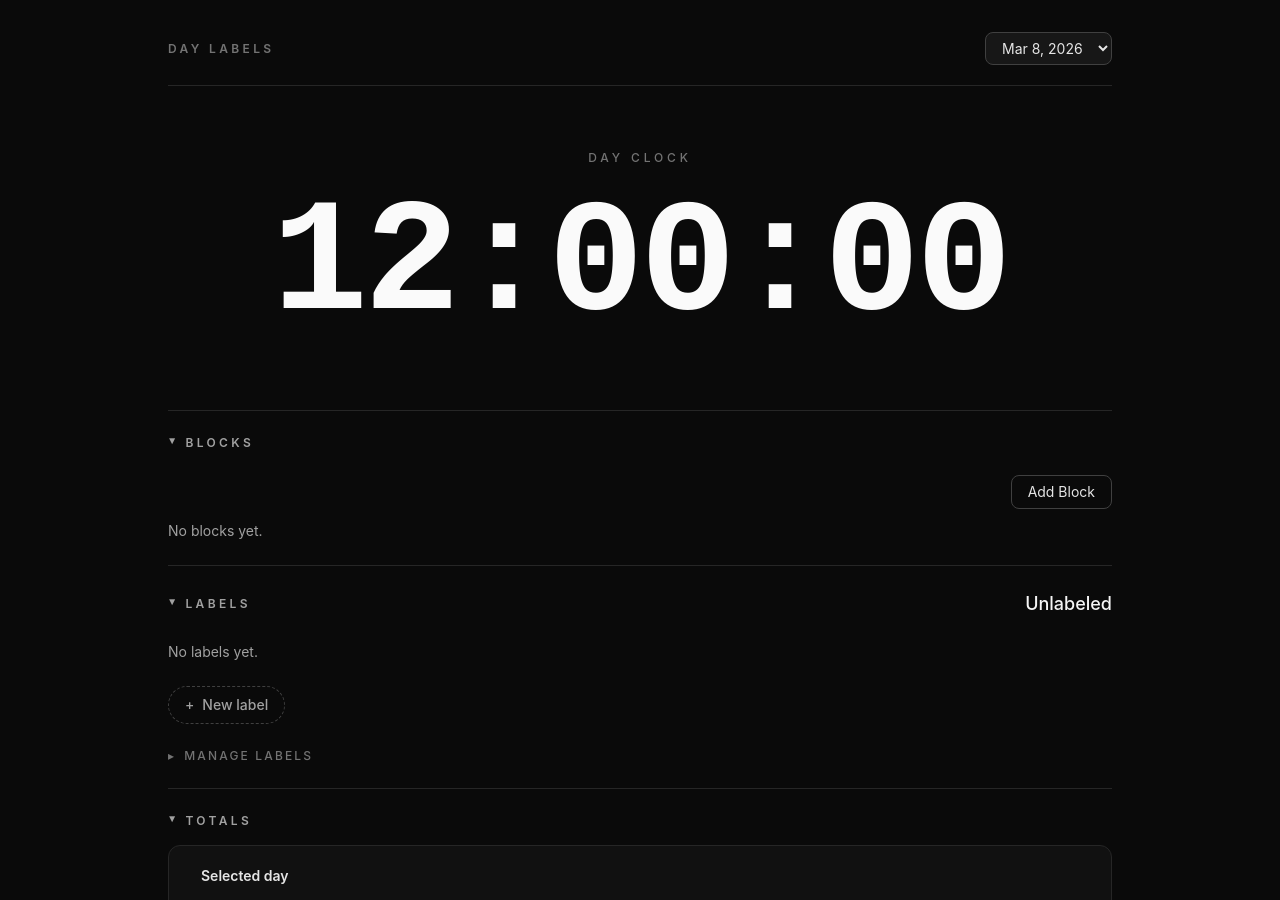
Test case: Labels › trims label names before creating them
Click the button "+ New label" at (227, 705), box [168,686,285,724]
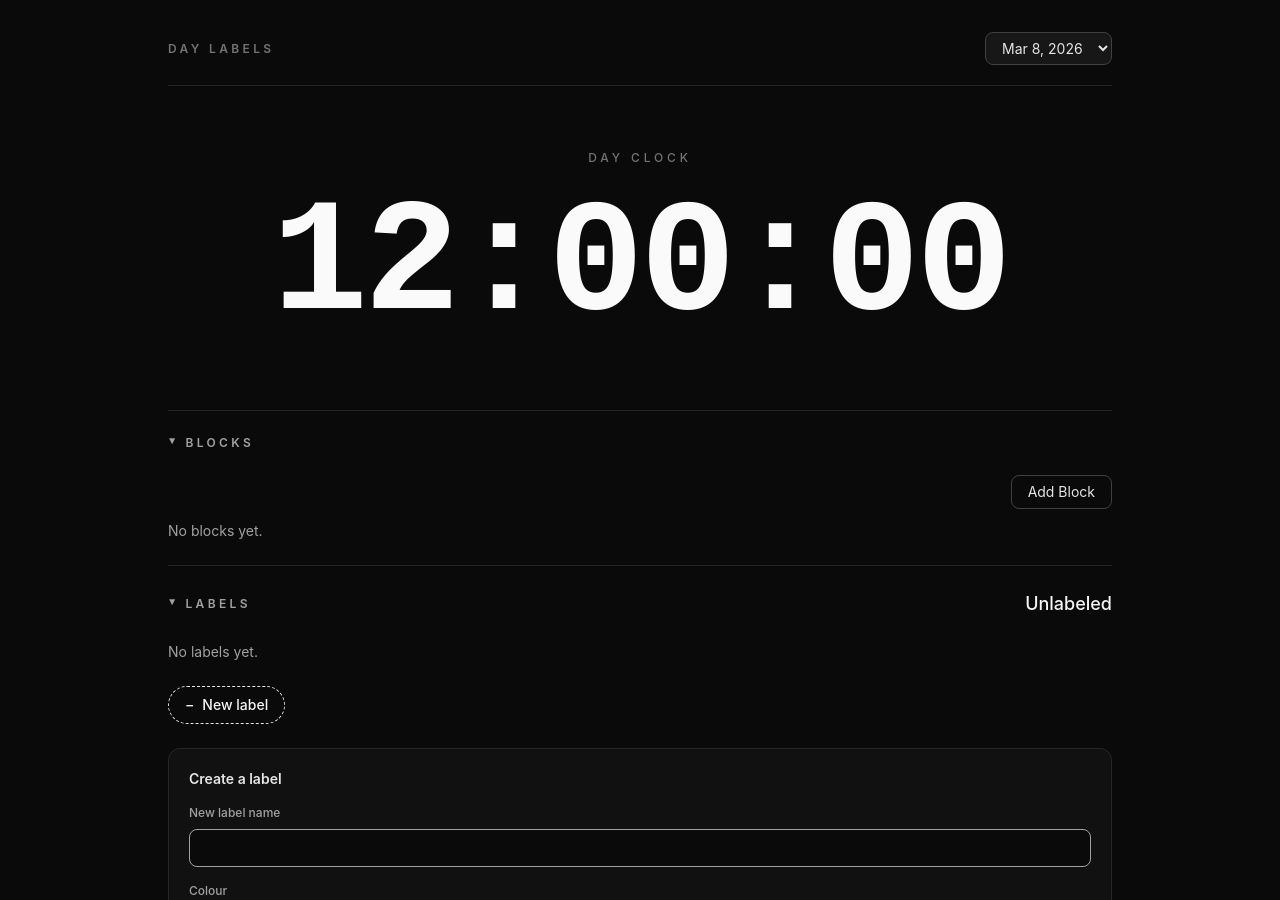
Type "  Deep work  " into the field labelled "New label name" at (640, 848), box [189,829,1091,867]
(page scrolled)
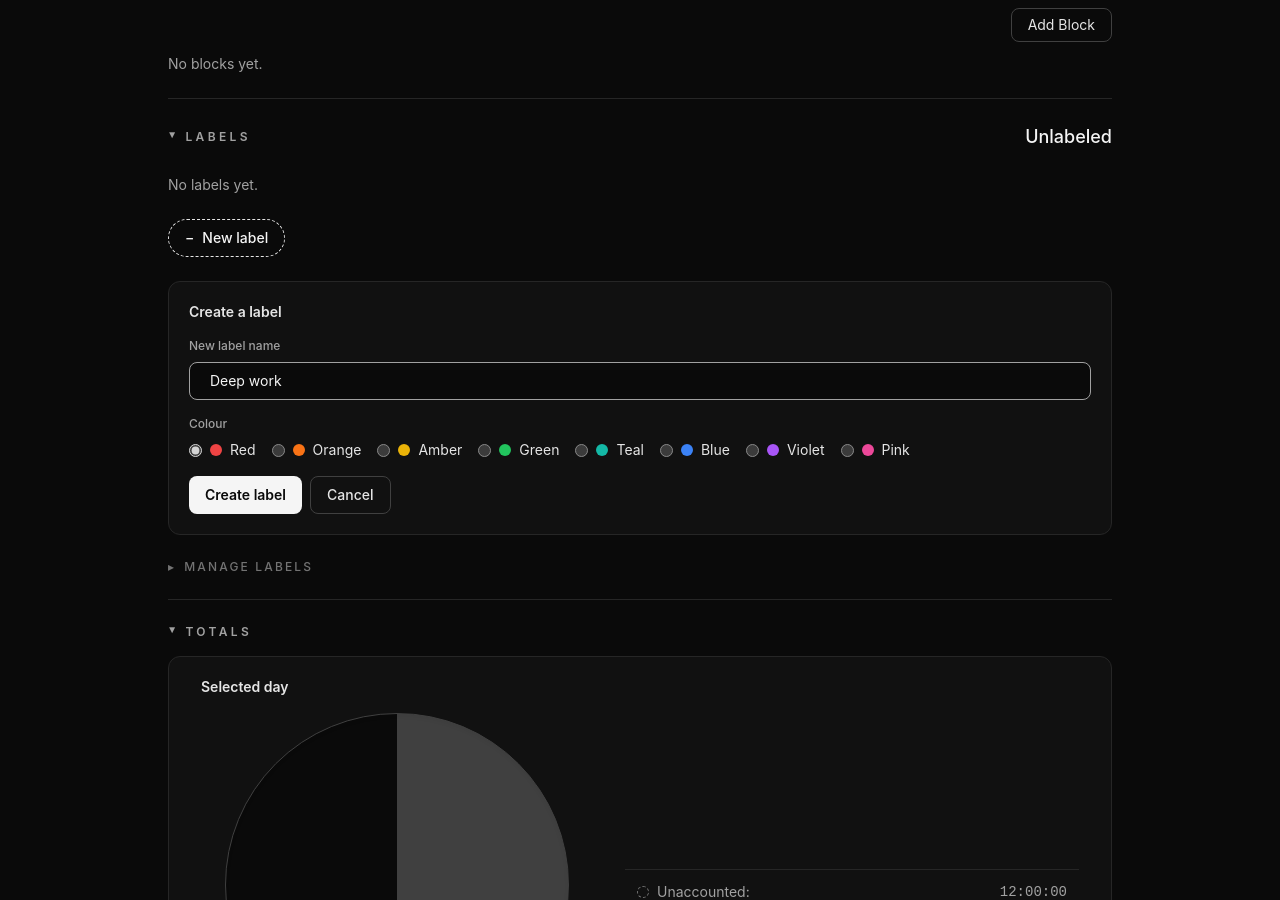
Click the radio button labelled "Blue" at (666, 450), box [660,444,673,456]
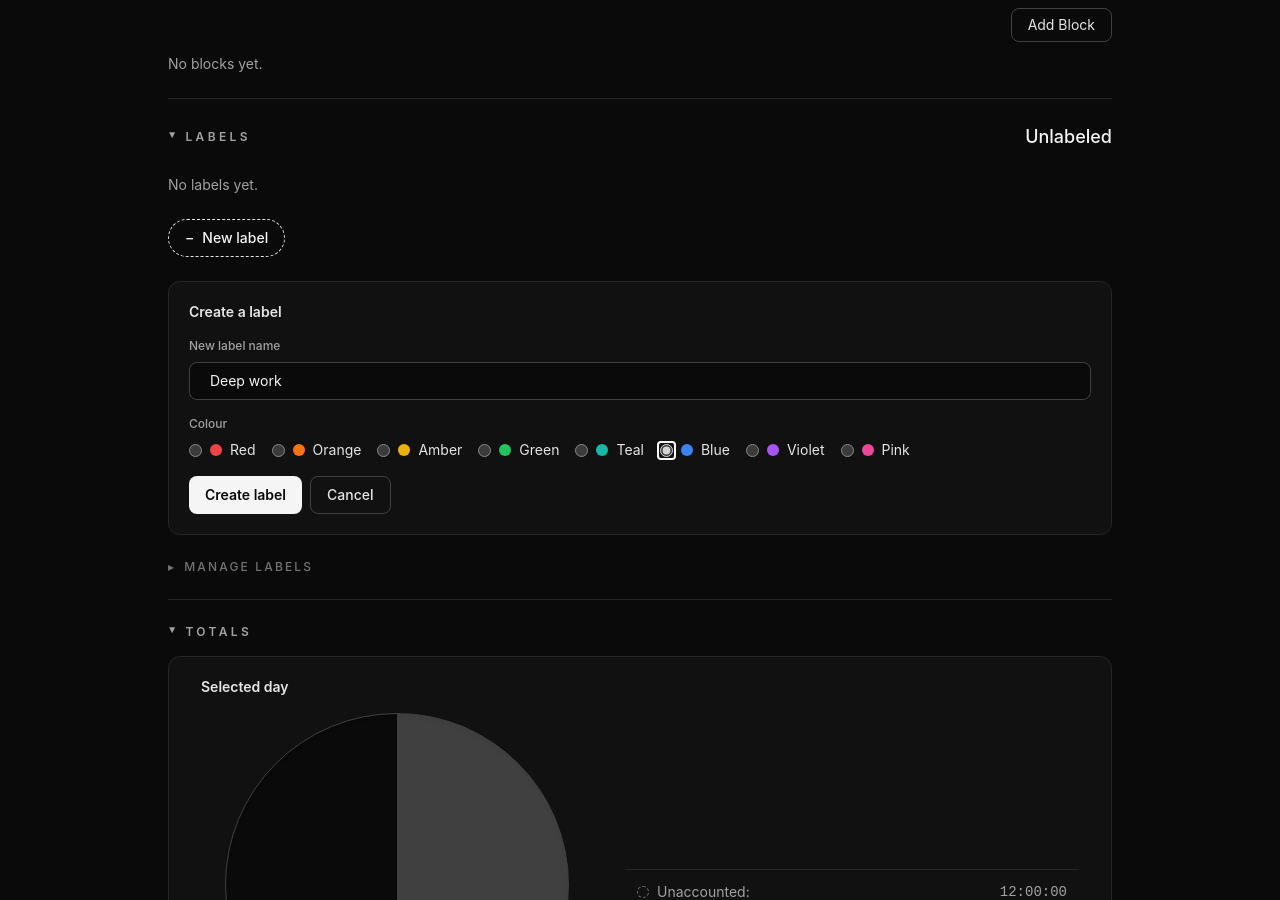
Click the button "Create label" at (246, 495), box [189,476,302,514]
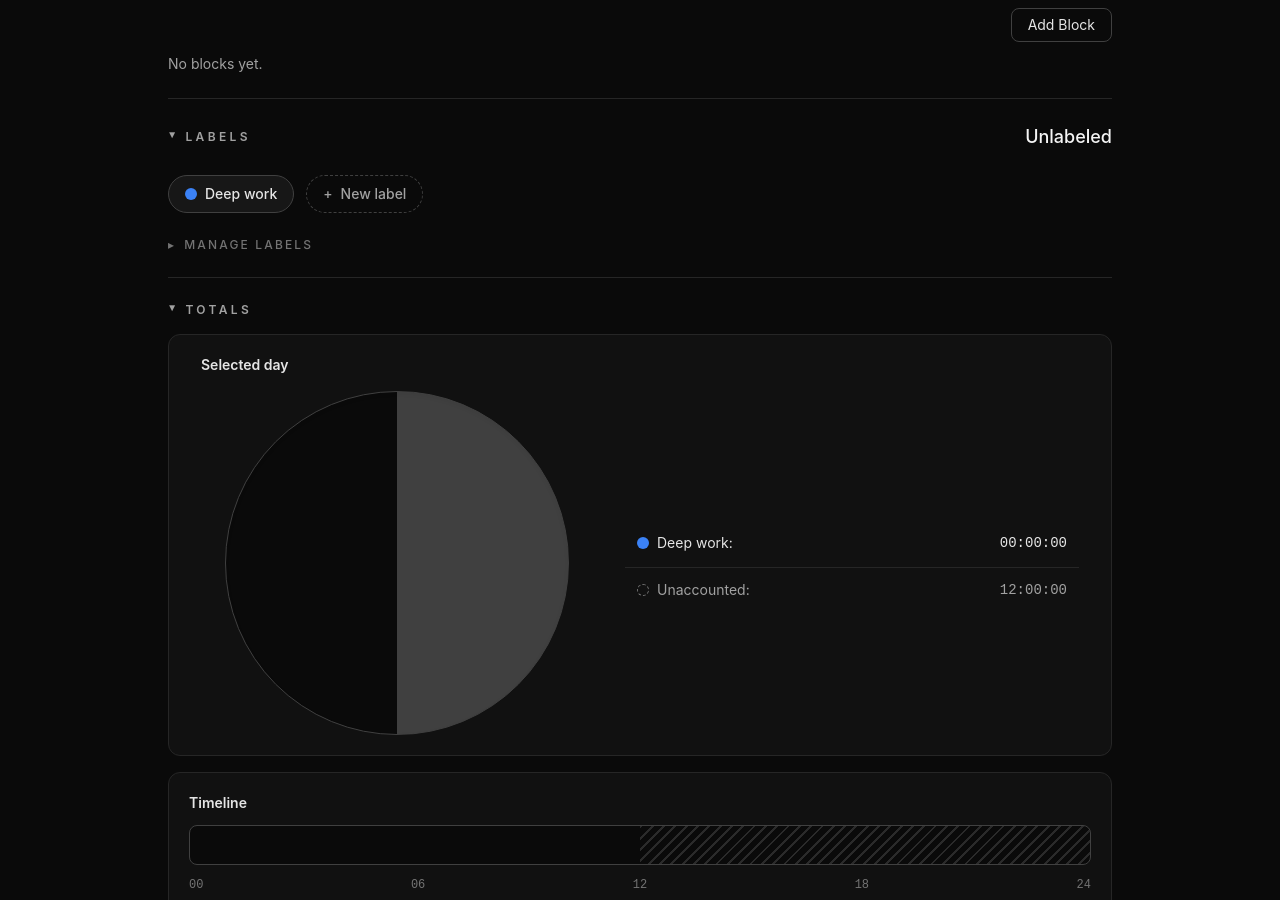
Expected: the button "Deep work" is shown, [168,175,294,213]
